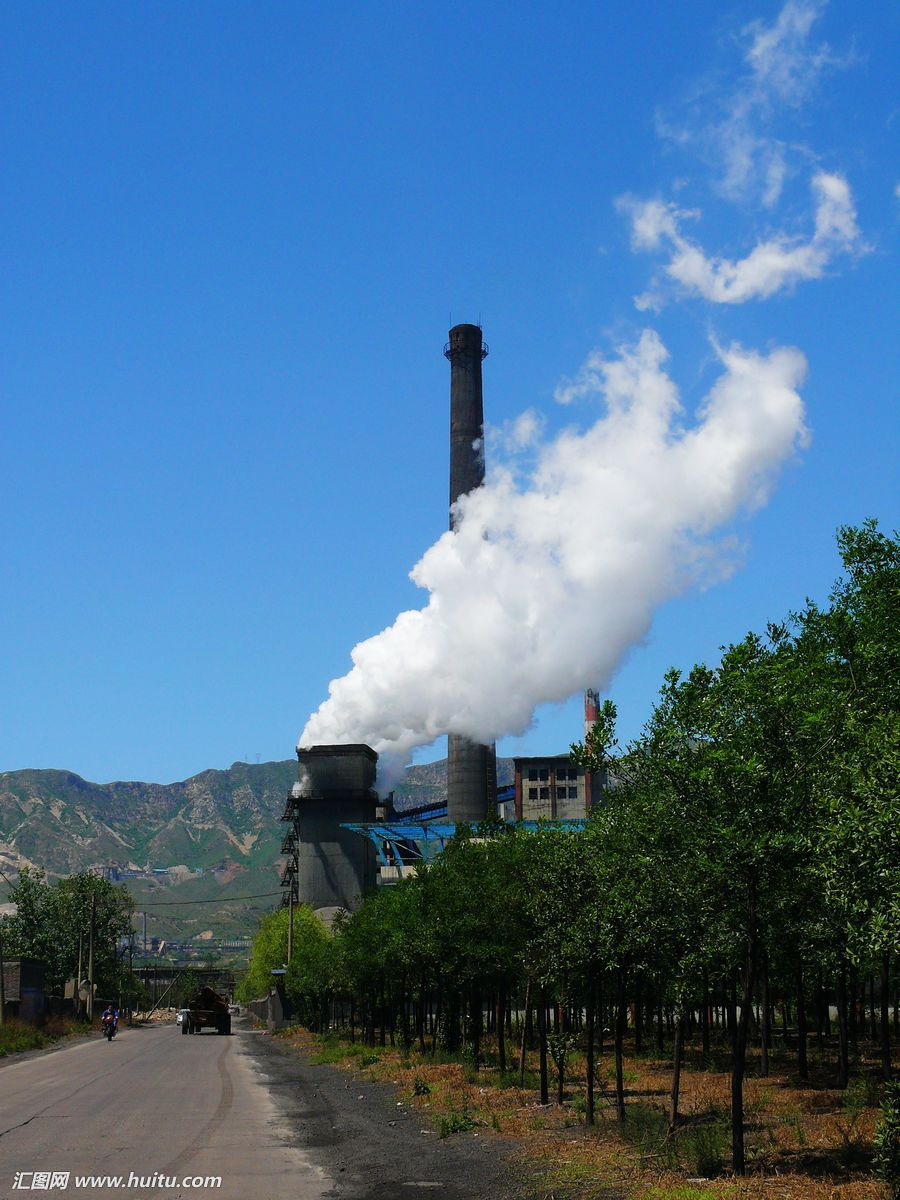dust: (282, 376, 804, 776)
